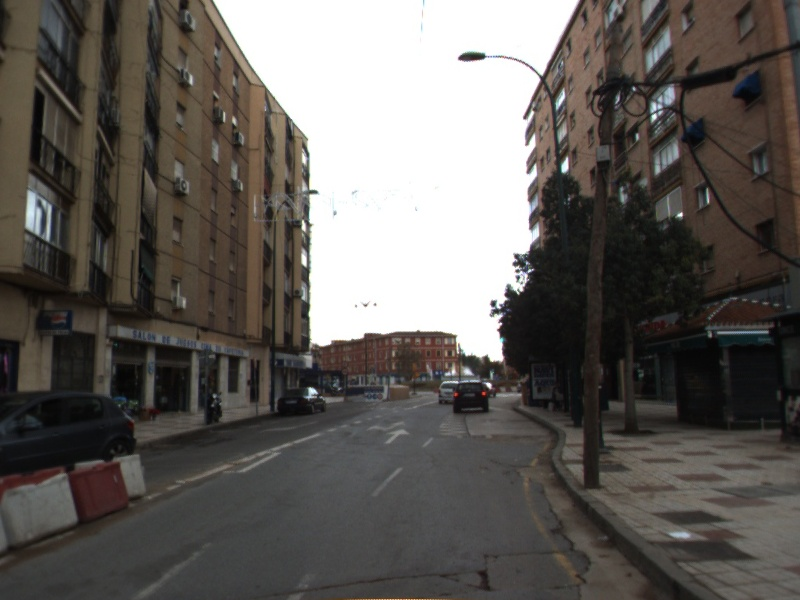STRAIGHT: (382, 427, 411, 446)
STRAIGHT_LEFT: (363, 418, 408, 433)
